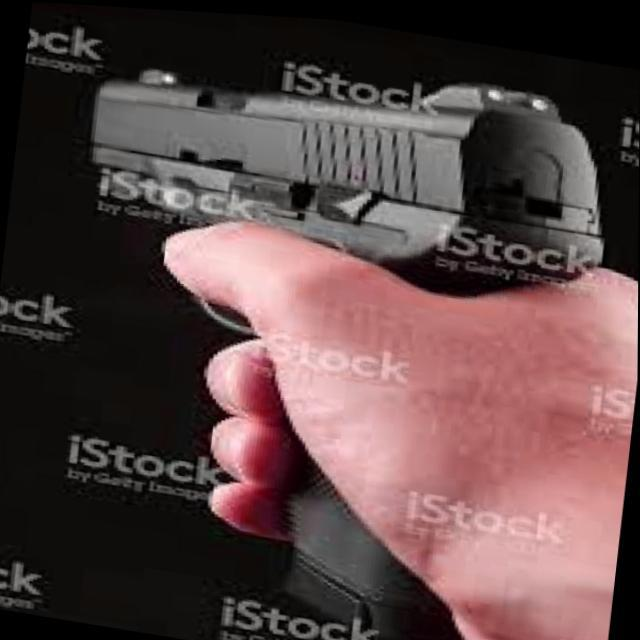weapon: (33, 13, 624, 640)
